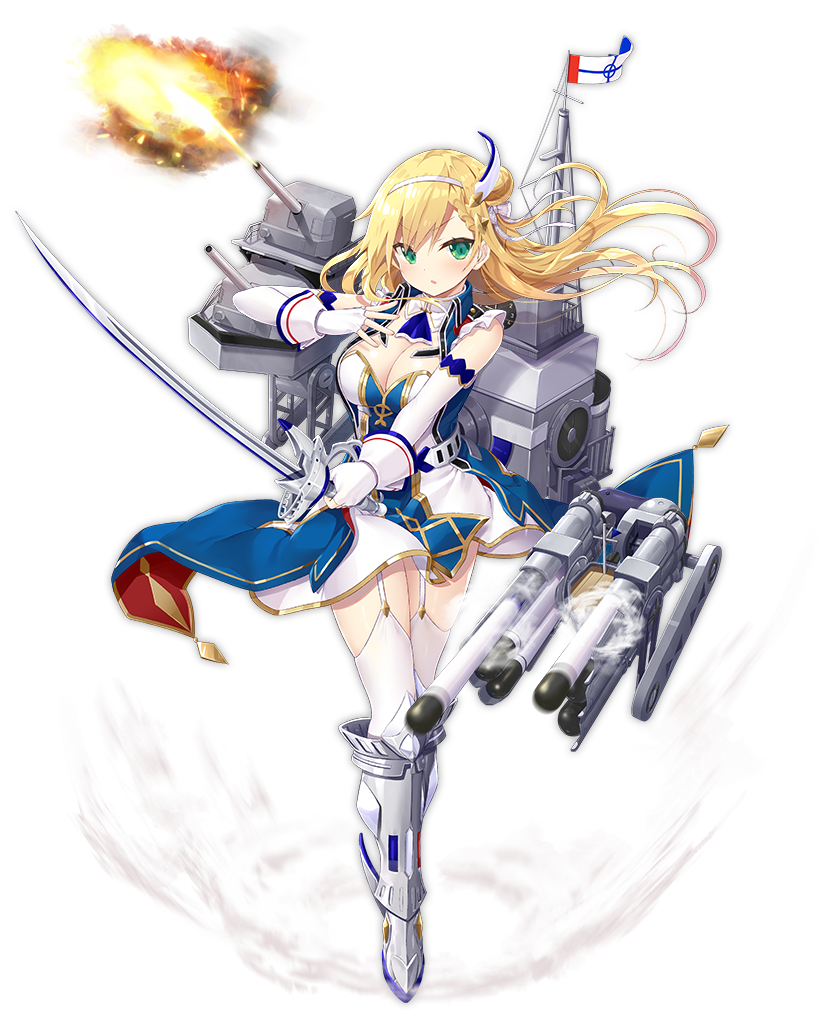person: (179, 136, 658, 822)
